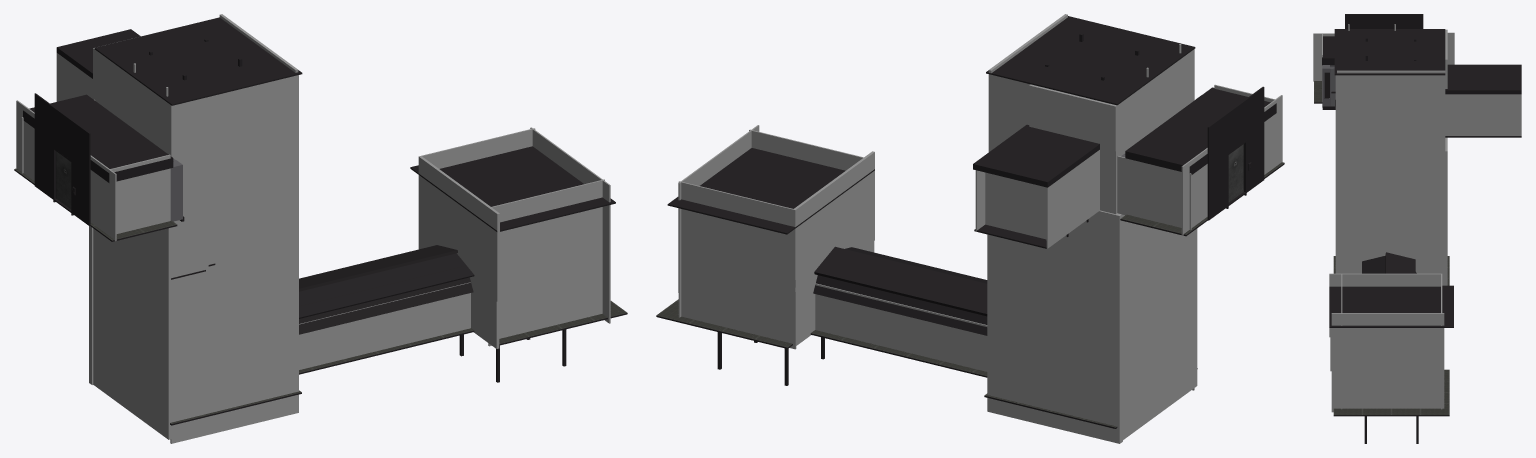
The model's file is SCP 895 Containment Chamber.obj.
The picture shows the model from 3 angles, left to right: view 1: azimuth 30°, elevation 25°; view 2: azimuth 150°, elevation 25°; view 3: azimuth 270°, elevation 25°; orthographic projection. The views are drawn at different scales.
Visible parts, largest first — view 1: Part97, Part22, Part50, Part11, Part20, Part60, Part19, Part42, Part9, Part65, Part45, Part44 (+13 smaller); view 2: Part89, Part22, Part33, Part11, Part80, Part20, Part19, Part10, Part42, Part90, Part65, Part43 (+19 smaller); view 3: Part6, Part100, Part11, Part19, Part72, Part90, Part20, Part52, Part89, Part10, Part34, Part97 (+6 smaller).
Boxes of the visible parts, <box> form: Part97: <box>170,75,298,443</box>; Part22: <box>93,227,172,439</box>; Part50: <box>488,179,604,346</box>; Part11: <box>94,17,302,105</box>; Part20: <box>419,156,499,301</box>; Part60: <box>299,282,470,369</box>; Part19: <box>410,146,615,231</box>; Part42: <box>23,94,173,182</box>; Part9: <box>299,253,474,318</box>; Part65: <box>93,48,175,157</box>; Part45: <box>108,154,170,235</box>; Part44: <box>299,265,473,334</box>; Part89: <box>987,210,1122,443</box>; Part22: <box>1114,213,1197,443</box>; Part33: <box>678,181,796,349</box>; Part11: <box>986,16,1195,105</box>; Part80: <box>815,283,987,371</box>; Part20: <box>793,151,874,298</box>; Part19: <box>667,148,874,234</box>; Part10: <box>814,246,987,316</box>; Part42: <box>1125,87,1276,174</box>; Part90: <box>973,124,1099,187</box>; Part65: <box>1112,49,1194,159</box>; Part43: <box>1117,156,1191,229</box>; Part6: <box>1337,70,1445,268</box>; Part100: <box>1331,313,1444,412</box>; Part11: <box>1334,29,1445,75</box>; Part19: <box>1329,285,1453,327</box>; Part72: <box>1445,94,1521,135</box>; Part90: <box>1445,64,1521,94</box>; Part20: <box>1329,273,1441,337</box>; Part52: <box>1345,14,1423,28</box>; Part89: <box>1443,137,1447,285</box>; Part10: <box>1385,252,1415,273</box>; Part34: <box>1313,33,1334,81</box>; Part97: <box>1335,75,1336,268</box>.
Size of the model in its own units: 81.61 by 56.73 by 38.8.
Materials: 28 (10 with a texture image).
